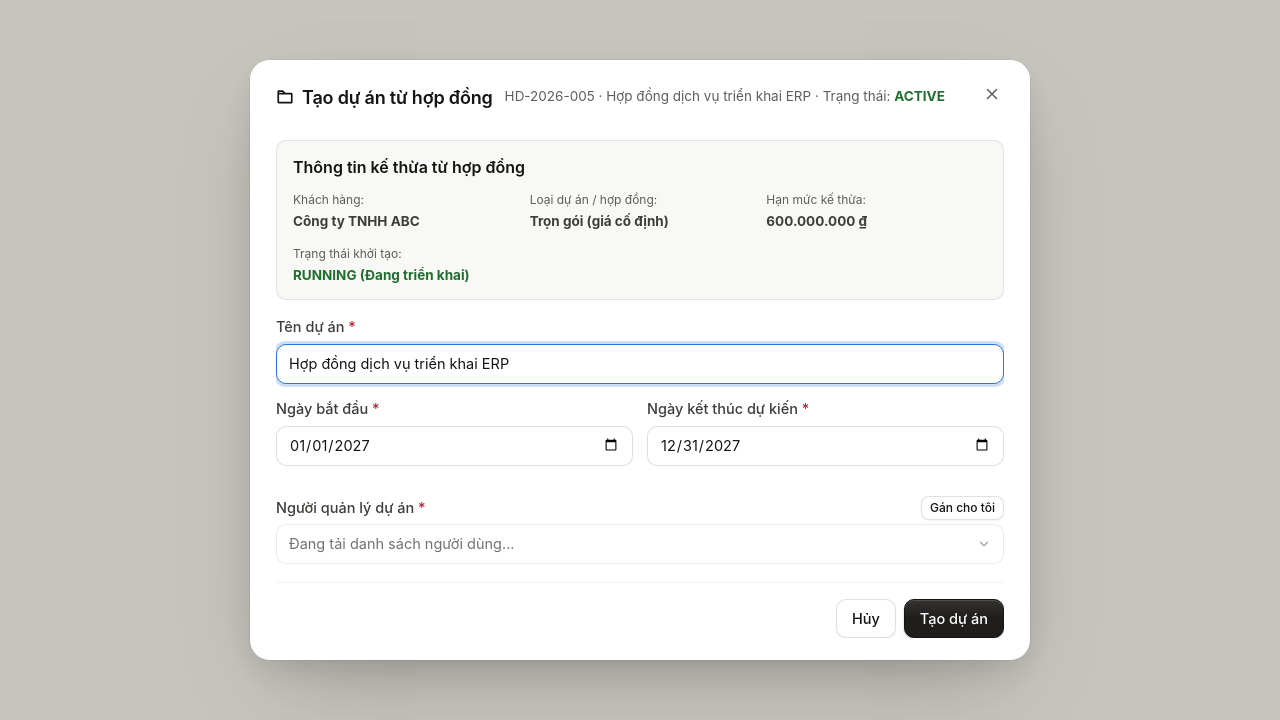
Scenario: CreateProjectModal (NCL-05-CN-001 — Tạo dự án từ hợp đồng) › TC-03d: Báo lỗi validation khi thiếu người quản lý dự án
The image size is (1280, 720).
# Không chọn người quản lý dự án (giữ nguyên lựa chọn rỗng mặc định)
Click the button with test id "submit-create-project-btn". click: (954, 618)
box: left=904, top=598, right=1004, bottom=638
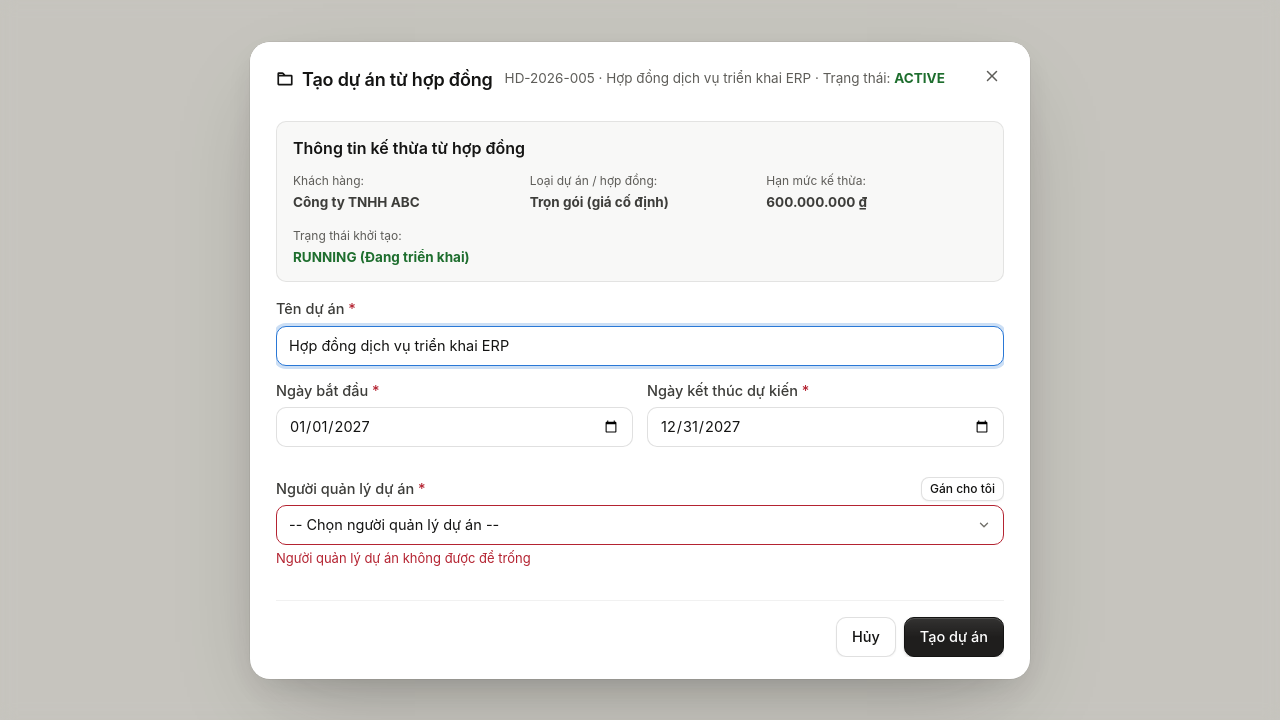
expect the text with test id "error-project-manager" reads "Người quản lý dự án không được để trống": met, box left=276, top=550, right=531, bottom=566
